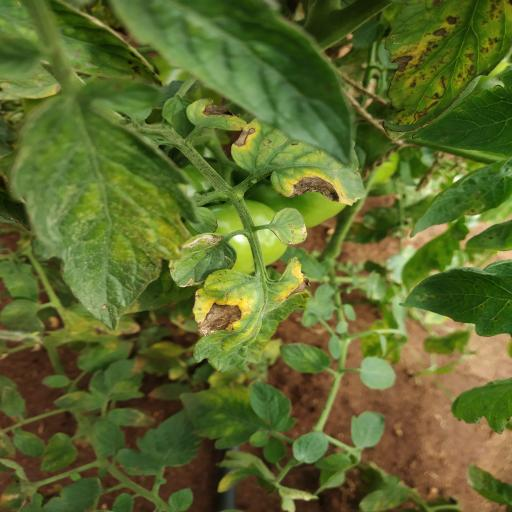disease_tomato: (192, 266, 312, 374), (230, 118, 368, 204)
